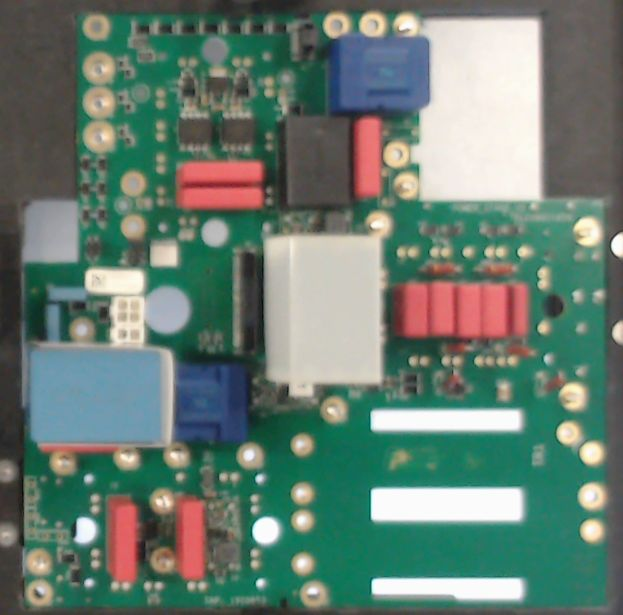comp1: (332, 35, 429, 114), (174, 365, 249, 443)
comp2: (104, 497, 138, 581), (174, 496, 206, 578), (353, 117, 382, 198), (176, 186, 265, 212), (179, 159, 263, 184), (394, 281, 429, 339), (482, 279, 509, 339), (428, 281, 455, 340), (455, 279, 480, 340), (512, 281, 528, 343)
comp3: (280, 115, 354, 209)
comp4: (261, 231, 382, 387), (26, 341, 176, 447)
